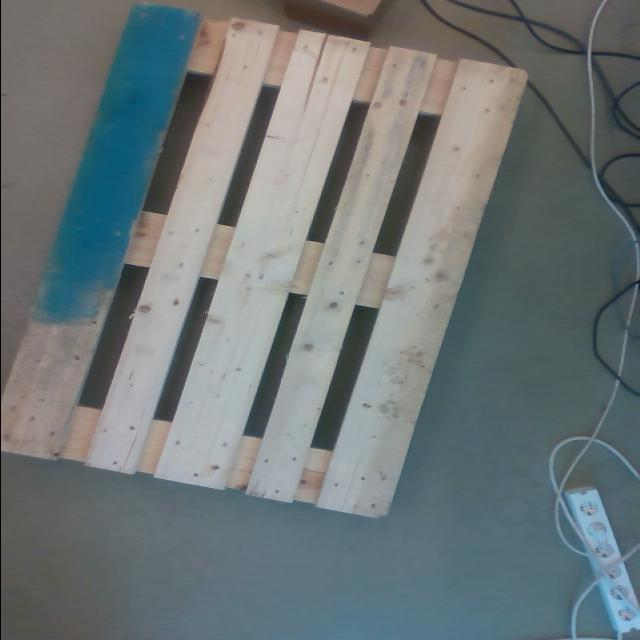pallet: (2, 5, 525, 516)
